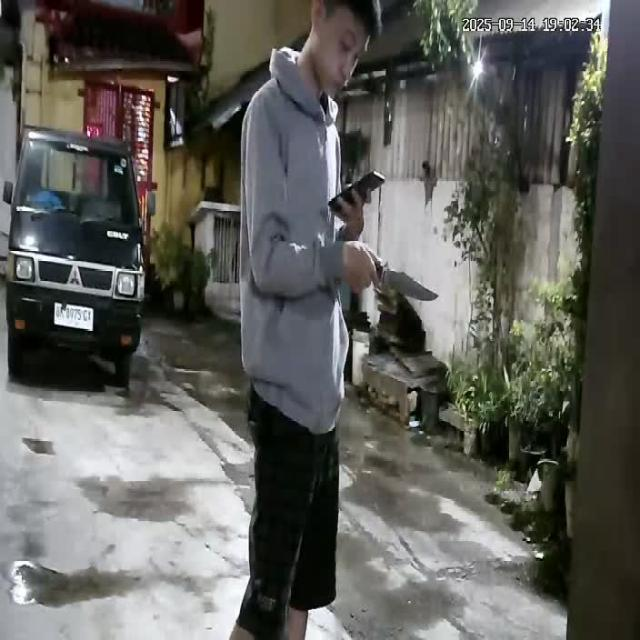senjata_tajam: (375, 264, 442, 302)
